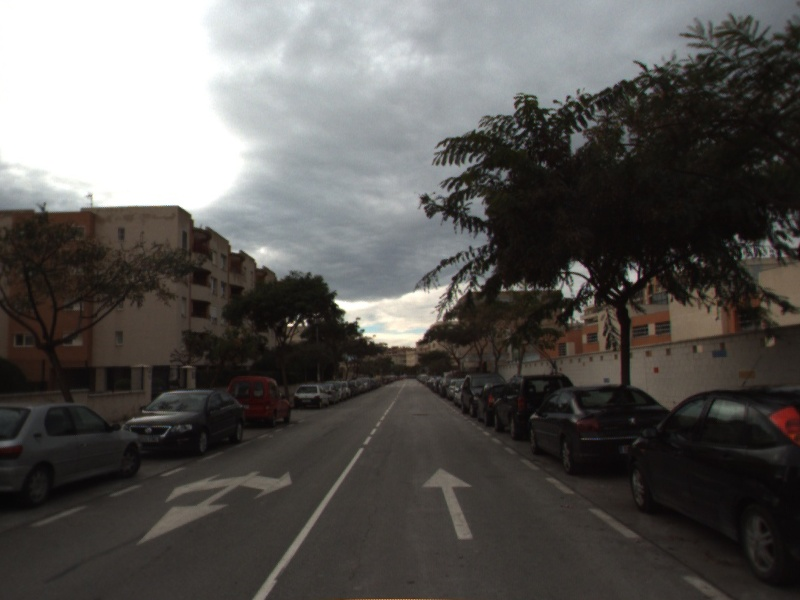STRAIGHT: (419, 465, 476, 541)
